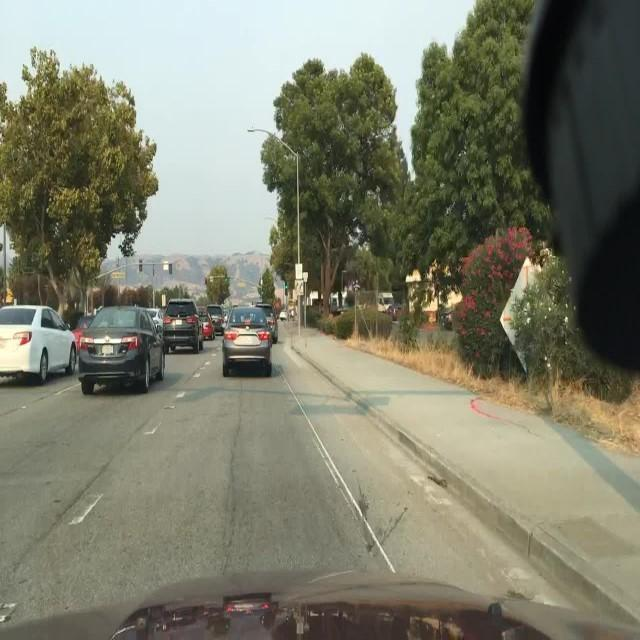normal: (0, 267, 307, 400)
